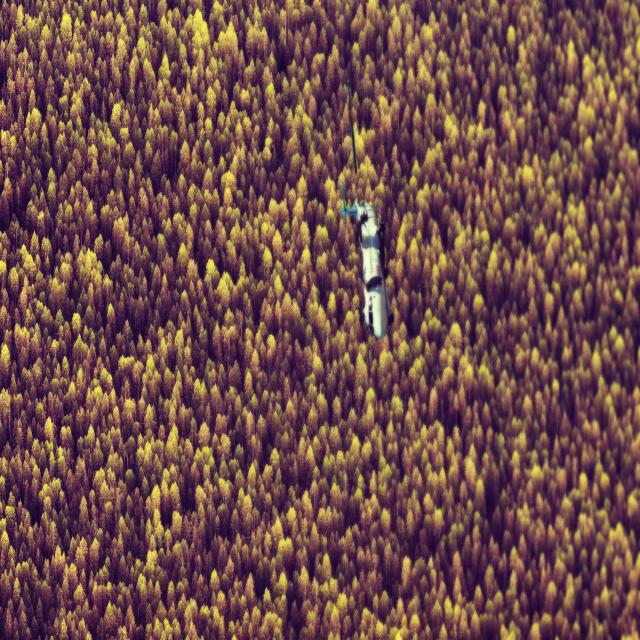airplane: (342, 83, 393, 340)
